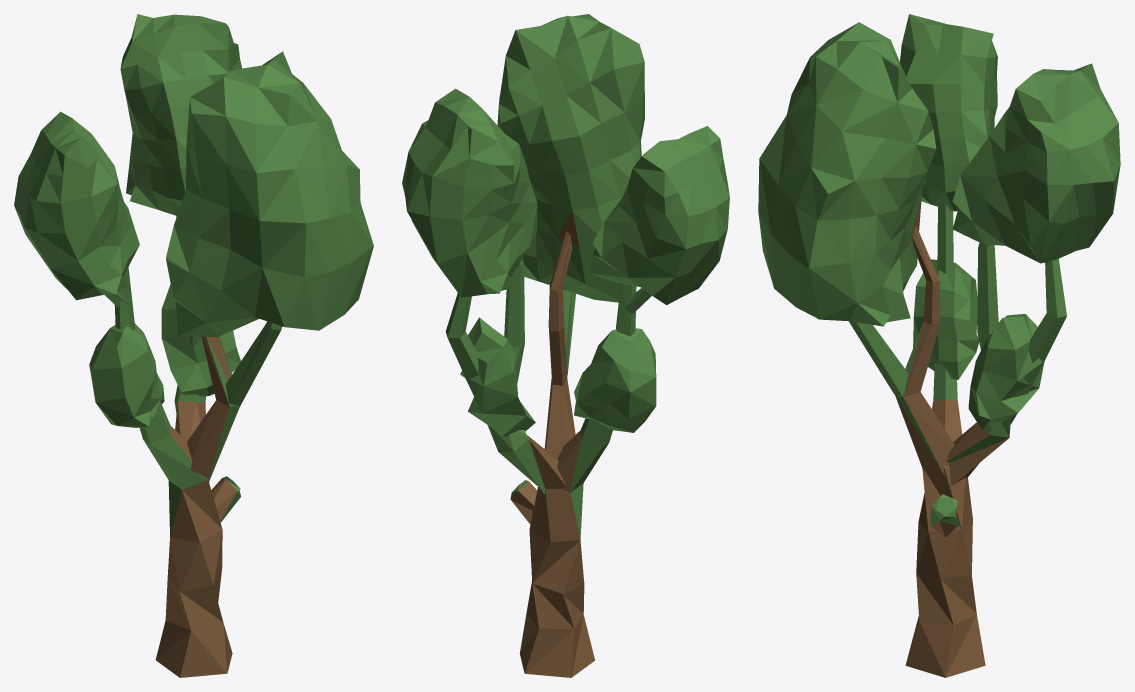
File: tree3d-126.glb
3 views of the same model, side by side, from view 1: azimuth 30°, elevation 25°; view 2: azimuth 150°, elevation 25°; view 3: azimuth 270°, elevation 25° (orthographic). The views are drawn at different scales.
Visible parts, largest first — view 1: tree3d-126; view 2: tree3d-126; view 3: tree3d-126.
Boxes of the visible parts, x1,y1,x2,y2 form: tree3d-126: [14, 14, 373, 677]; tree3d-126: [402, 14, 729, 677]; tree3d-126: [758, 14, 1120, 677].
Size of the model in its own units: 0.4714 by 1 by 0.5191.
